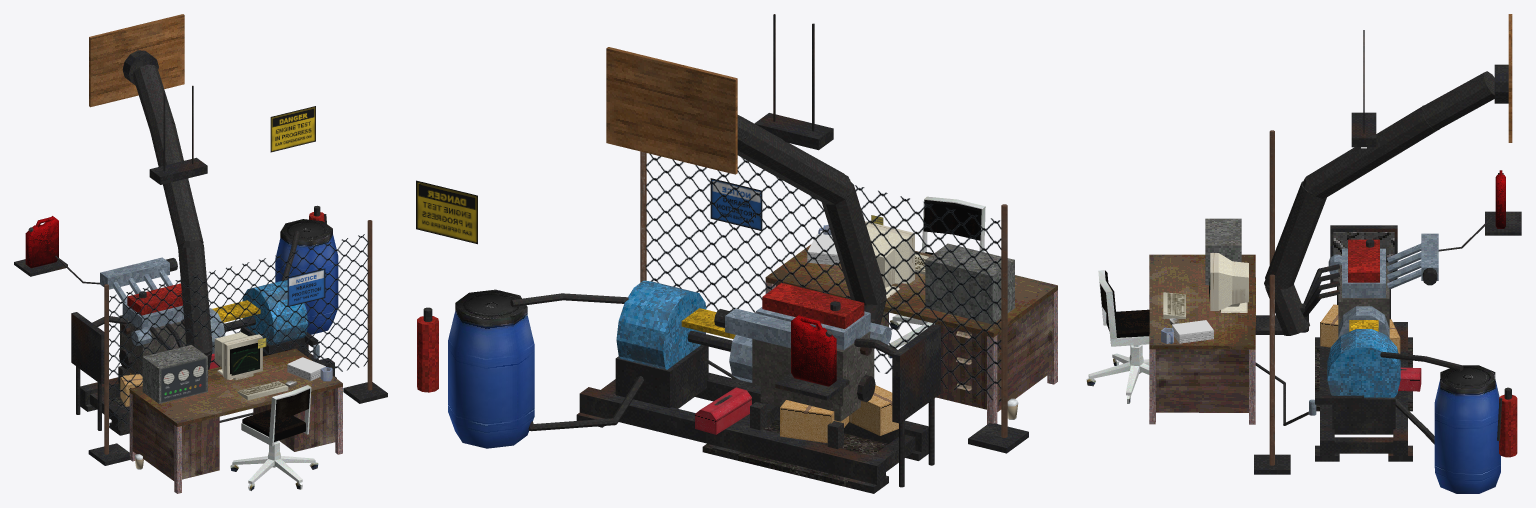
File: station_dyno.glb
3 renders of one model, left to right at view 1: azimuth 30°, elevation 25°; view 2: azimuth 150°, elevation 25°; view 3: azimuth 270°, elevation 25°, orthographic. The views are drawn at different scales.
Parts seen in each view (by area): view 1: desk_a, fence, Dyno_Duct, Dyno_WindowBoard, drum_blue, DynoChair, Dyno_WaterBrake, Dyno_Rad, Dyno_GaugeBox, Dyno_DangerSign, Dyno_Gauges, jerrycan (+19 smaller); view 2: fence, desk_a, Dyno_WindowBoard, drum_blue, Dyno_Duct, Dyno_Rail_-1.0, Dyno_WaterBrake, Dyno_GaugeBox, Dyno_BrakeStand, Dyno_Rad, BUSY_dyno_Engine_Block, Dyno_DangerSign (+23 smaller); view 3: desk_a, Dyno_Duct, drum_blue, Dyno_WaterBrake, DynoChair, Dyno_BrakeStand, DynoCRT, fence, Dyno_GaugeBox, BUSY_dyno_Engine_CamCover, Dyno_Rail_-1.6, Dyno_Rail_-1.0 (+20 smaller).
Boxes of the visible parts, box(x1,y1,x2,y2) form: desk_a: box(129, 348, 342, 493); fence: box(104, 220, 372, 454); Dyno_Duct: box(133, 64, 212, 369); Dyno_WindowBoard: box(89, 14, 184, 107); drum_blue: box(275, 219, 338, 334); DynoChair: box(230, 385, 318, 490); Dyno_WaterBrake: box(242, 280, 307, 345); Dyno_Rad: box(71, 312, 104, 384); Dyno_GaugeBox: box(142, 345, 207, 403); Dyno_DangerSign: box(270, 106, 315, 152); Dyno_Gauges: box(161, 358, 206, 402); jerrycan: box(25, 216, 58, 268); fence: box(640, 151, 1007, 437); desk_a: box(765, 244, 1057, 424); Dyno_WindowBoard: box(606, 47, 737, 174); drum_blue: box(448, 289, 534, 448); Dyno_Duct: box(737, 115, 886, 348); Dyno_Rail_-1.0: box(579, 387, 885, 484); Dyno_WaterBrake: box(616, 280, 706, 369); Dyno_GaugeBox: box(925, 243, 1014, 324); Dyno_BrakeStand: box(615, 345, 708, 408); Dyno_Rad: box(892, 324, 940, 423); BUSY_dyno_Engine_Block: box(752, 331, 874, 406); Dyno_DangerSign: box(416, 180, 477, 244); desk_a: box(1149, 254, 1255, 424); Dyno_Duct: box(1264, 71, 1494, 335); drum_blue: box(1434, 365, 1500, 493); Dyno_WaterBrake: box(1327, 329, 1400, 397); DynoChair: box(1086, 270, 1149, 403); Dyno_BrakeStand: box(1332, 396, 1395, 434); DynoCRT: box(1210, 253, 1248, 312); fence: box(1269, 130, 1274, 465); Dyno_GaugeBox: box(1205, 218, 1241, 284); BUSY_dyno_Engine_CamCover: box(1348, 239, 1379, 282); Dyno_Rail_-1.6: box(1320, 322, 1334, 455); Dyno_Rail_-1.0: box(1393, 322, 1407, 455).
Size of the model in its own units: 3.53 by 3.25 by 3.56.
33 materials, 31 textured.
